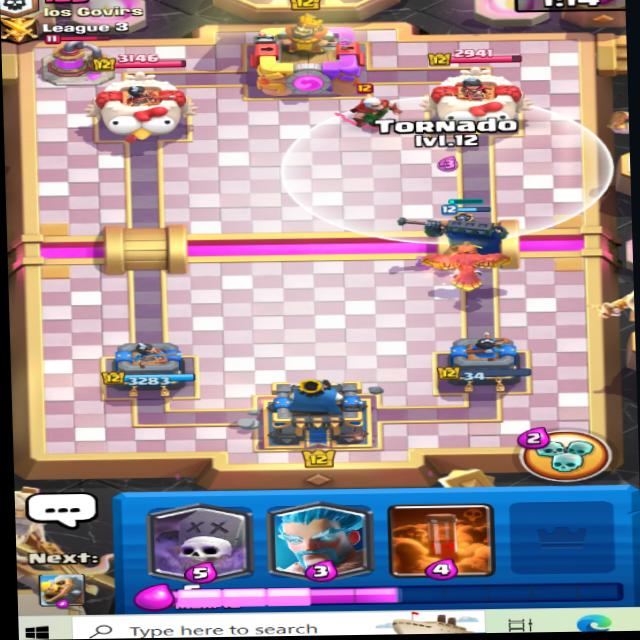elixir-collector: (25, 30, 123, 84)
magic-archer: (328, 85, 416, 138)
